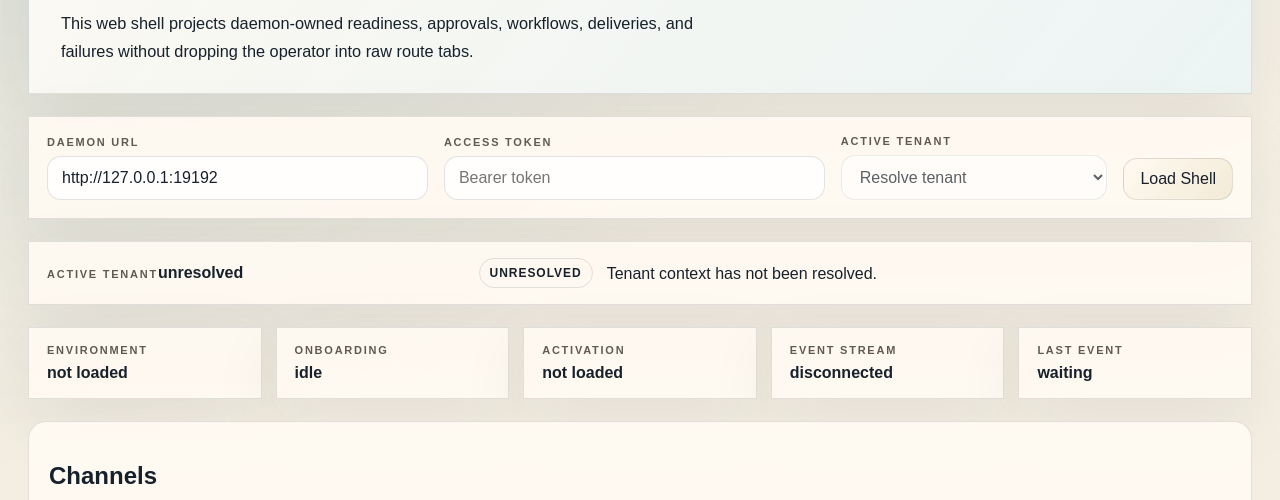
Test: App › ignores stale in-flight action and membership failures after switching tenants
(page scrolled)
Type "token" into the password field labelled "Access Token" at {"x": 634, "y": 178}, box [444, 156, 825, 200]
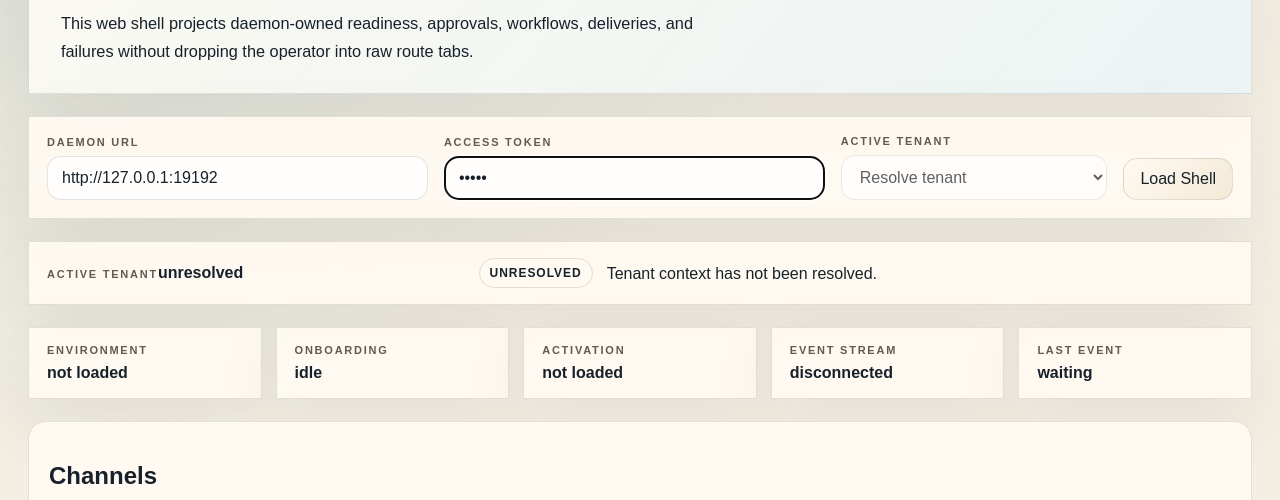
Click the button "Load Shell" at {"x": 1178, "y": 180}, box [1123, 158, 1233, 200]
(page scrolled)
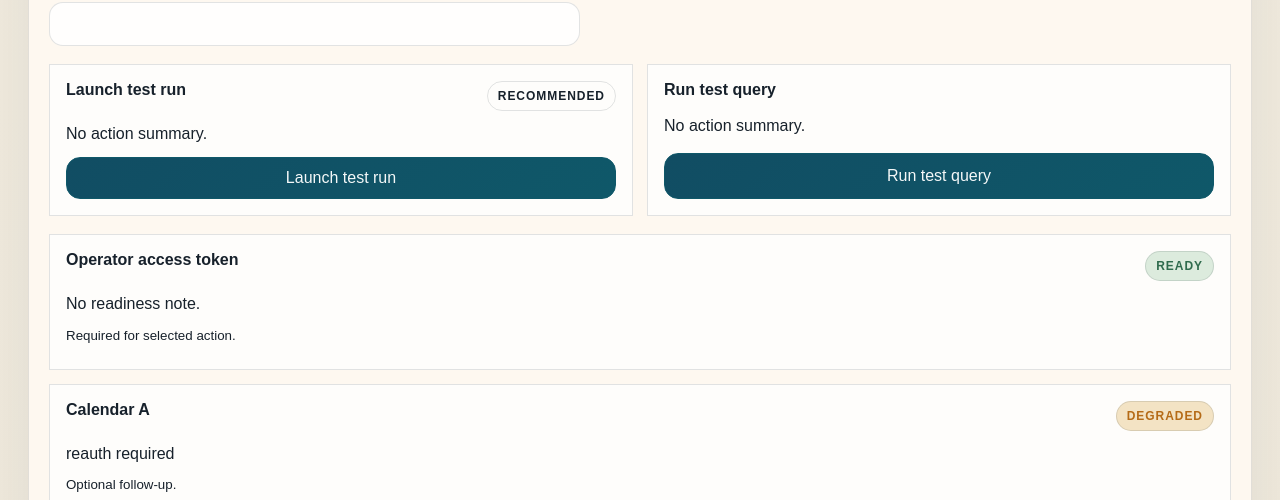
Click the button "Launch test run" at {"x": 341, "y": 178}, box [66, 157, 616, 199]
(page scrolled)
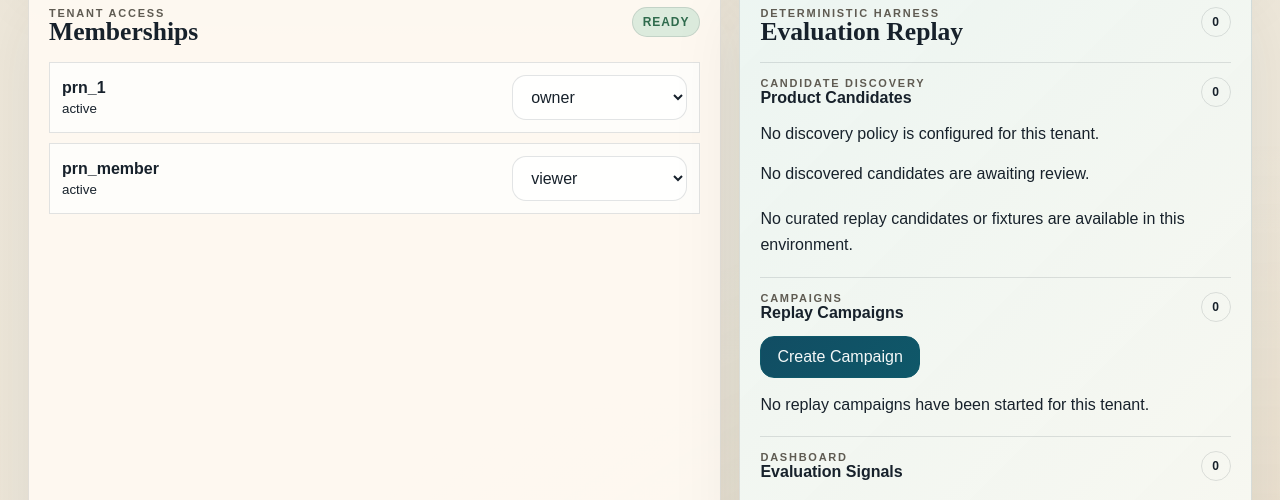
Select "admin" in the dropdown named "Role for prn_member" at {"x": 600, "y": 179}, box [512, 156, 688, 201]
(page scrolled)
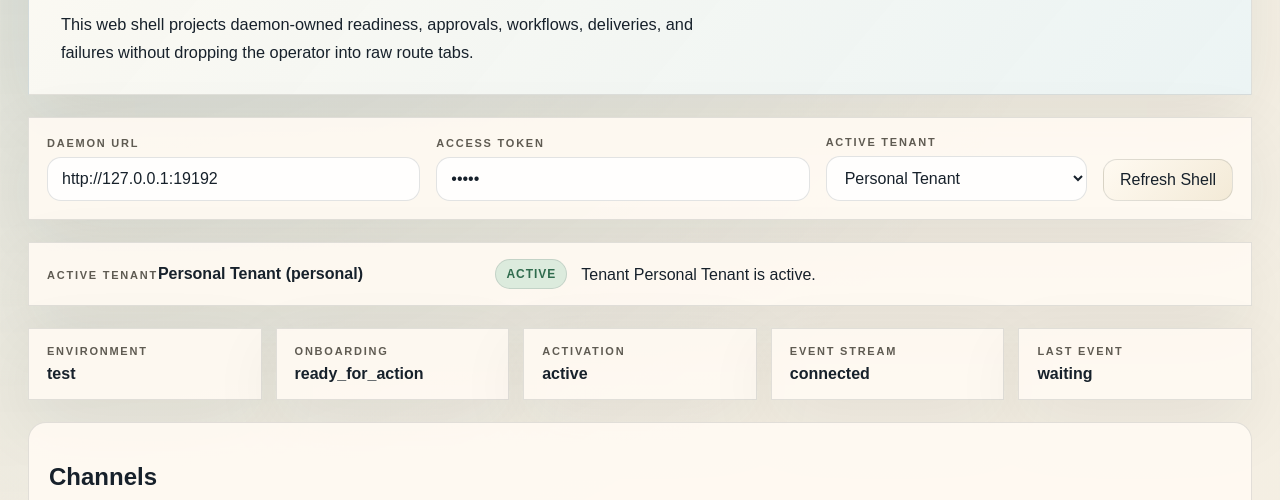
Select "Org Tenant" in the dropdown labelled "Active Tenant" at {"x": 956, "y": 179}, box [826, 156, 1087, 202]
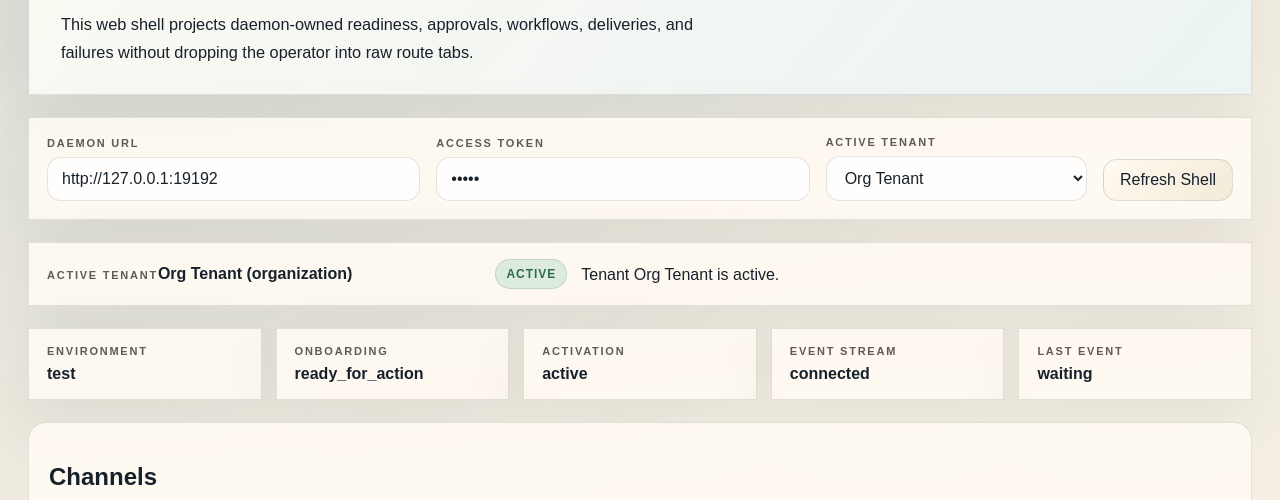
Expected: the text "Org Tenant (organization)" is shown, [158, 266, 352, 282]
